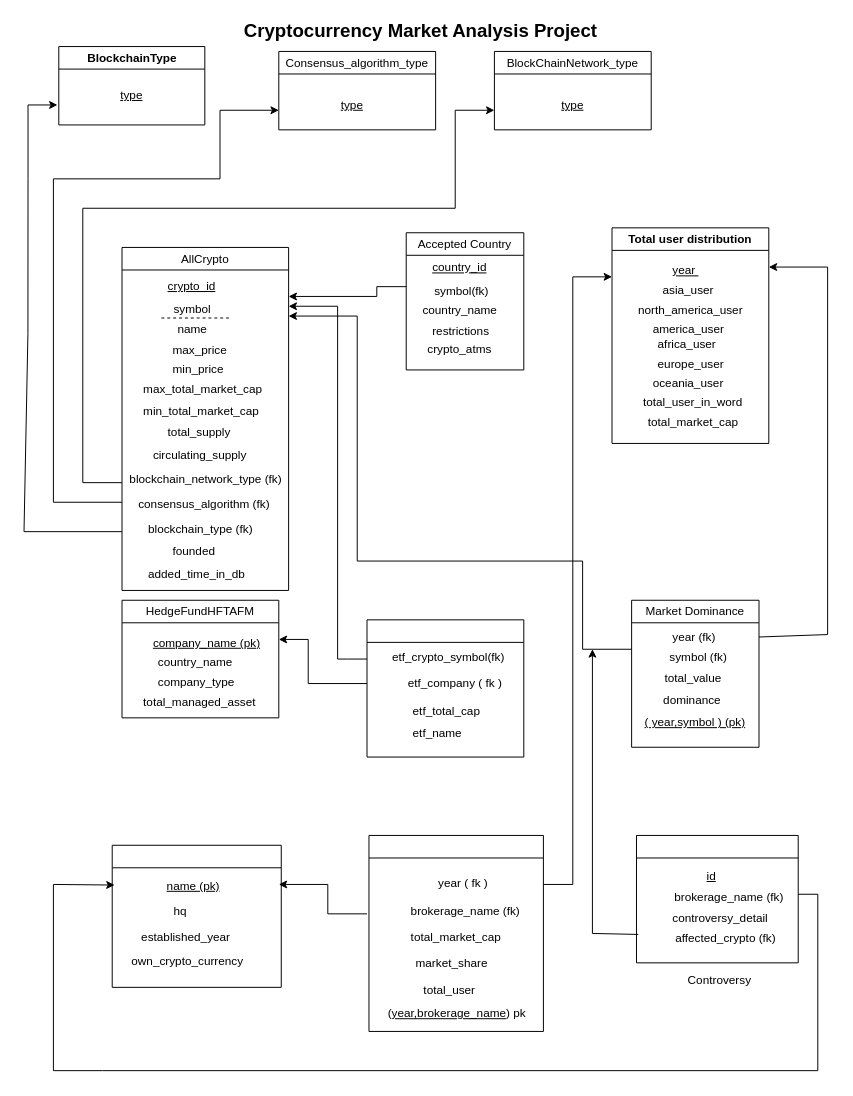
The diagram is 853 pixels wide and 1096 high, and some of its shapes have lost their labels. Each missing label, with the box of its shape:
Brokerage: (111, 844, 281, 987)
EFTAsTransactionByAMF: (366, 619, 524, 757)
Top Brokerage: (368, 834, 543, 1031)
Vertical Container: (636, 834, 798, 963)
